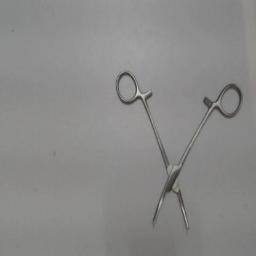Crile Artery Forceps: (114, 67, 248, 233)
